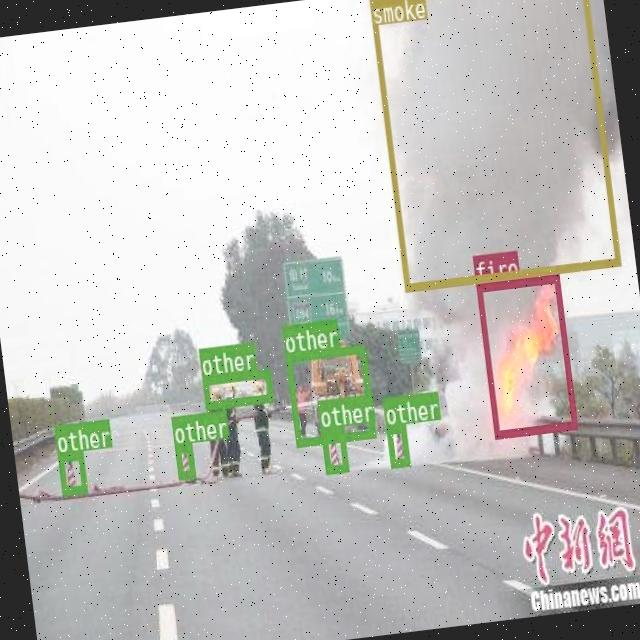fire: (475, 273, 576, 437)
smoke: (368, 0, 619, 290)
